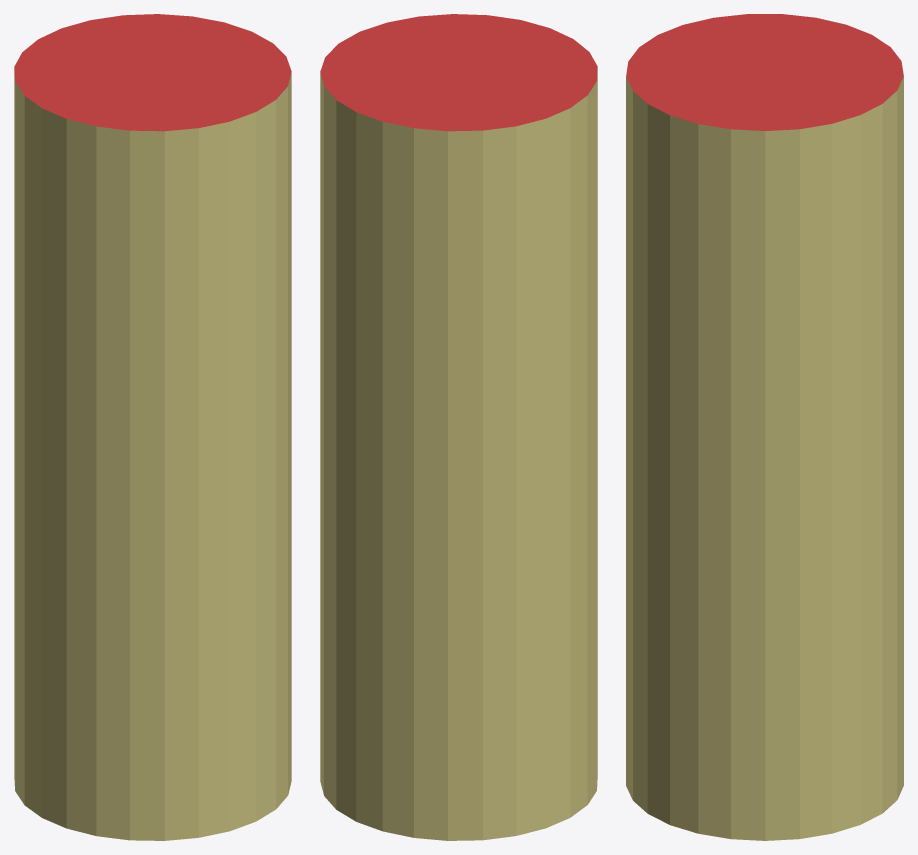
3 renders of one model, left to right at view 1: azimuth 30°, elevation 25°; view 2: azimuth 150°, elevation 25°; view 3: azimuth 270°, elevation 25°, orthographic.
Bounding box in the file's own units: 3.38 × 3.39 × 9.56.
